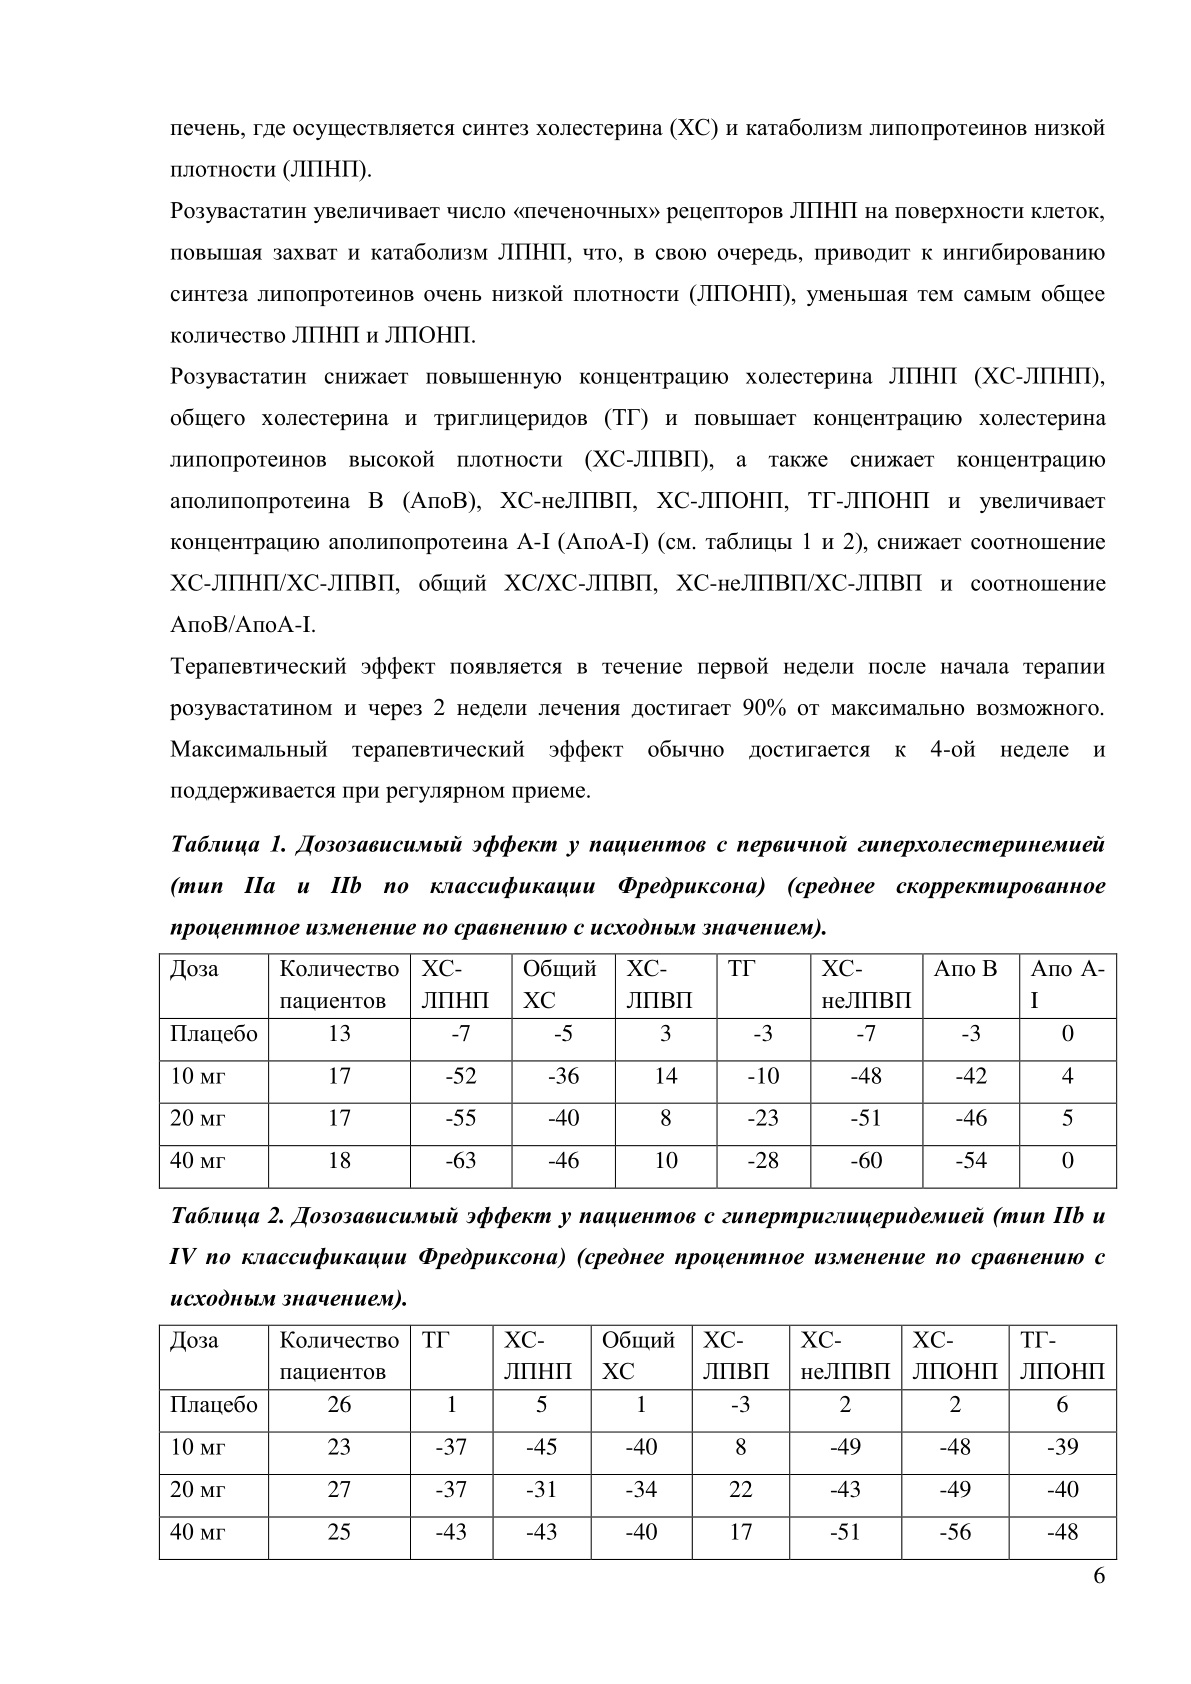full_lined: (159, 1325, 1118, 1560), (159, 953, 1118, 1189)
